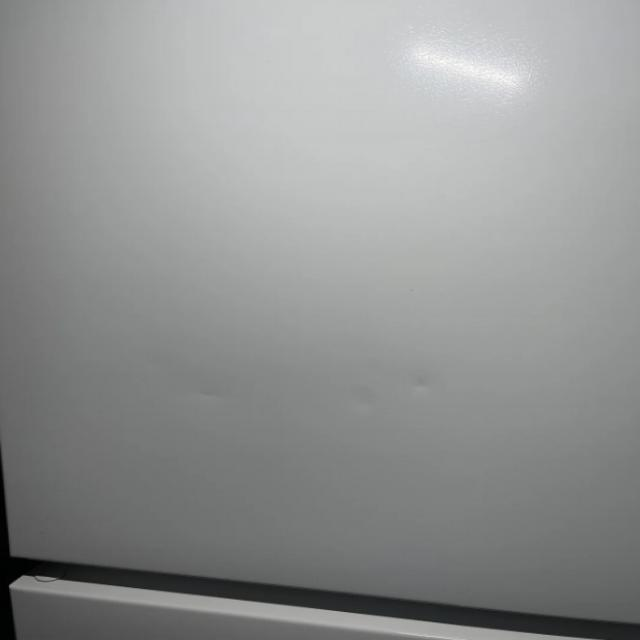dents: (158, 351, 290, 445), (393, 365, 451, 412), (340, 379, 386, 435)
